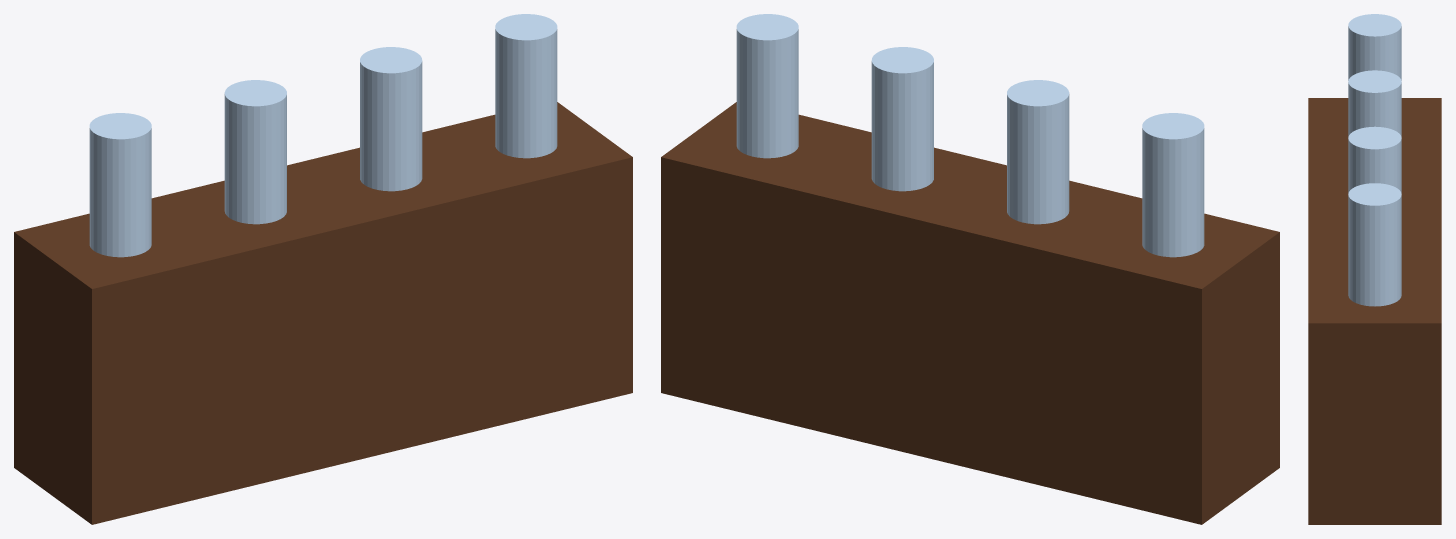
Rendered from stojak_chemia.obj.
The picture shows the model from 3 angles, left to right: view 1: azimuth 30°, elevation 25°; view 2: azimuth 150°, elevation 25°; view 3: azimuth 270°, elevation 25°; orthographic projection. The views are drawn at different scales.
Visible parts, largest first — view 1: Cube; view 2: Cube; view 3: Cube.
Boxes of the visible parts, bbox=[...] form: Cube: bbox=[14, 14, 632, 524]; Cube: bbox=[661, 14, 1279, 524]; Cube: bbox=[1308, 14, 1441, 524].
Size of the model in its own units: 2.4 by 1.5 by 0.6.
